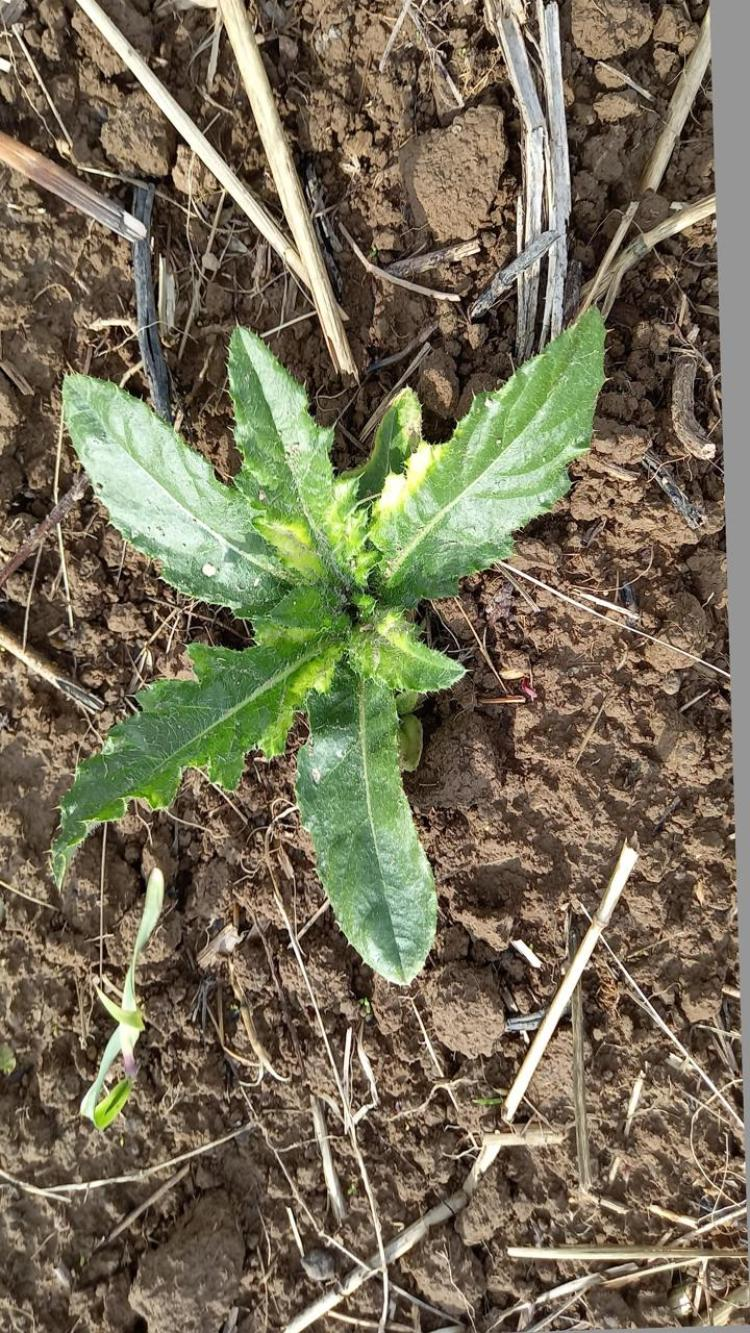bodyak: (60, 310, 614, 975)
